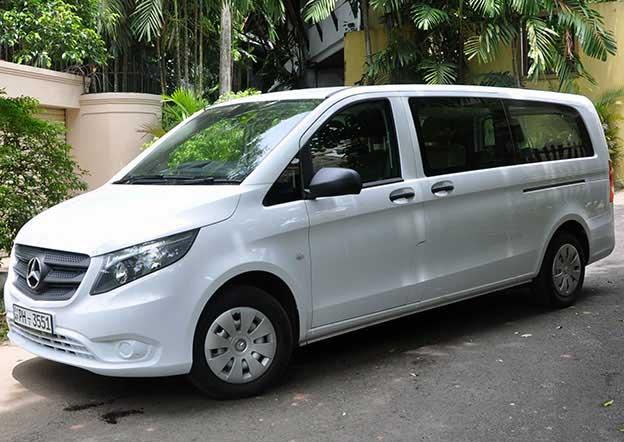van: (4, 84, 615, 400)
